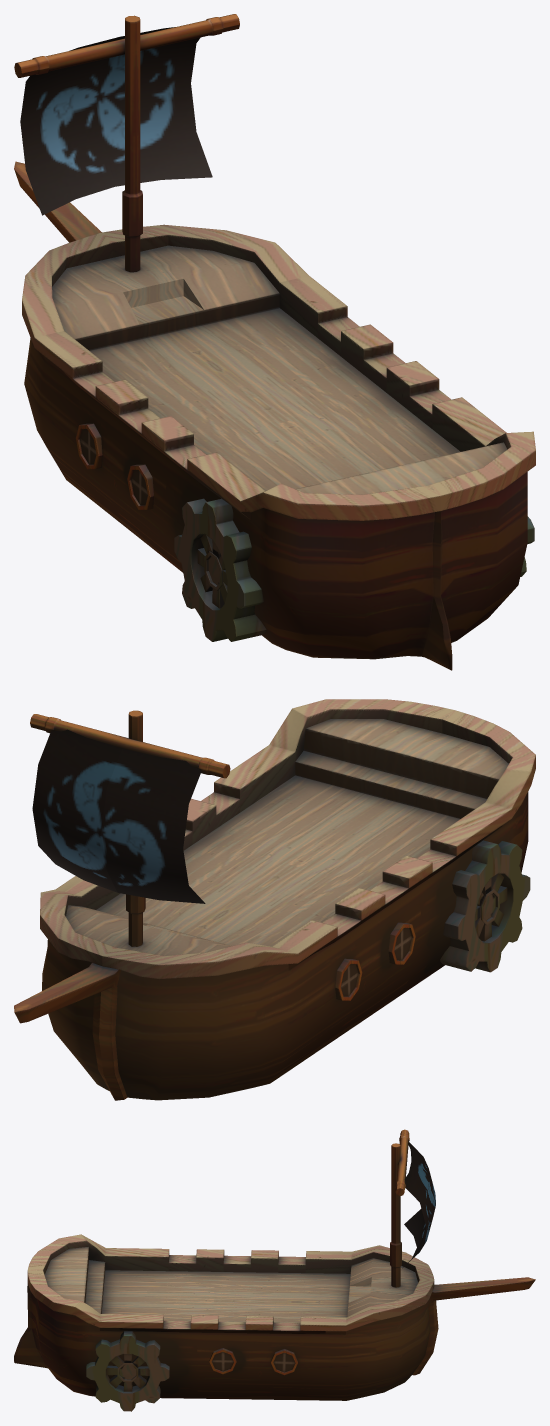
The model's file is Ship_hata.fbx.
3 views of the same model, one above another, from view 1: azimuth 30°, elevation 25°; view 2: azimuth 150°, elevation 25°; view 3: azimuth 270°, elevation 25° (orthographic). The views are drawn at different scales.
Parts seen in each view (by area): view 1: ship_hatamoyou; view 2: ship_hatamoyou; view 3: ship_hatamoyou.
Part boxes in pixels (x1=…): ship_hatamoyou: x1=14, y1=14, x2=535, y2=670; ship_hatamoyou: x1=14, y1=699, x2=535, y2=1100; ship_hatamoyou: x1=14, y1=1129, x2=535, y2=1411.
Bounding box in the file's own units: 20.67 × 27.91 × 57.16.
1 material, 1 textured.
